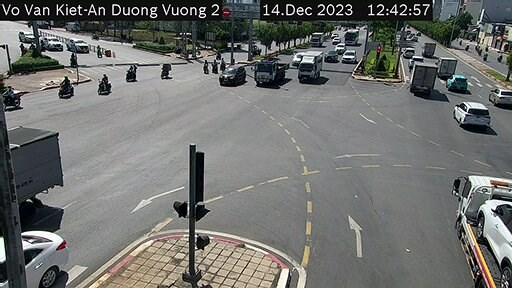car: (5, 223, 75, 288), (479, 200, 512, 282), (451, 100, 491, 127), (218, 64, 245, 91), (492, 80, 512, 112), (444, 73, 465, 94), (345, 48, 356, 66)
motorbike: (54, 72, 78, 101), (94, 71, 115, 101), (124, 62, 138, 84), (159, 60, 169, 82)
truck: (457, 172, 512, 287), (3, 129, 86, 205), (408, 61, 438, 98), (255, 54, 283, 89), (296, 50, 322, 85), (440, 54, 458, 77), (420, 39, 432, 64), (311, 32, 323, 49)
